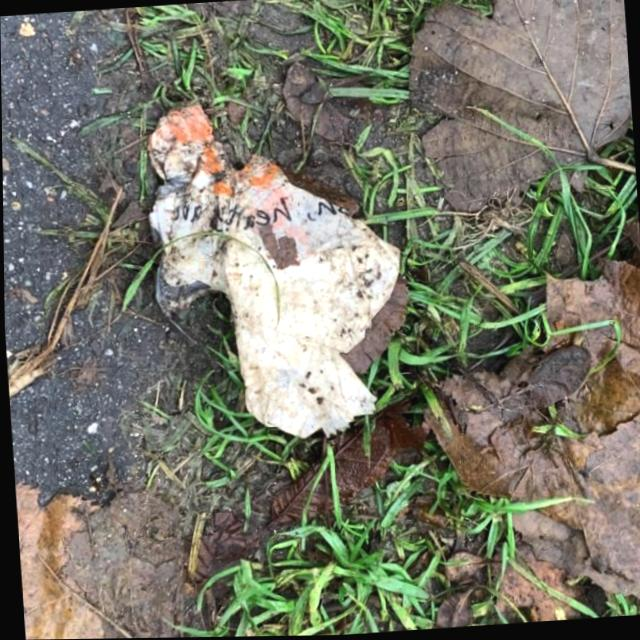Paper: (138, 88, 414, 454)
